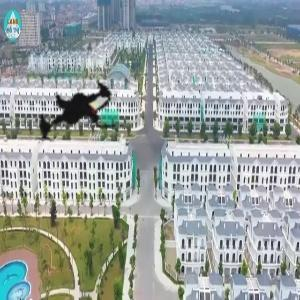drone: (12, 53, 146, 187)
